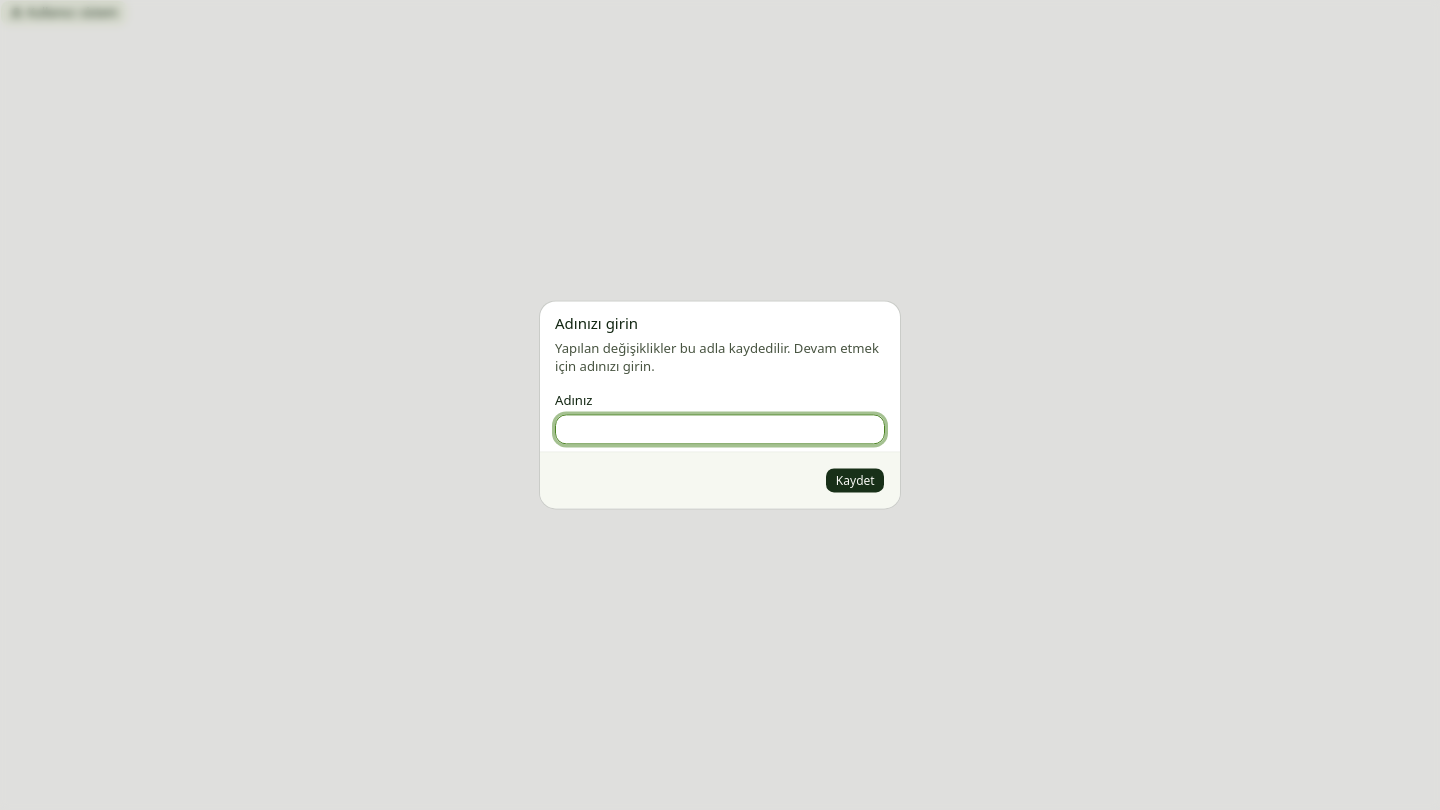
Test case: KullaniciAyari ilk açılış › kayıtlı ad yoksa diyalog açılır; ad girilene kadar kapanmaz
Expected: the dialog shows "Adınızı girin", [555, 313, 638, 333]
Press Escape
Expected: the dialog is shown, [540, 301, 900, 509]
Click the button "Kaydet".
click(855, 481)  # box [826, 467, 885, 494]
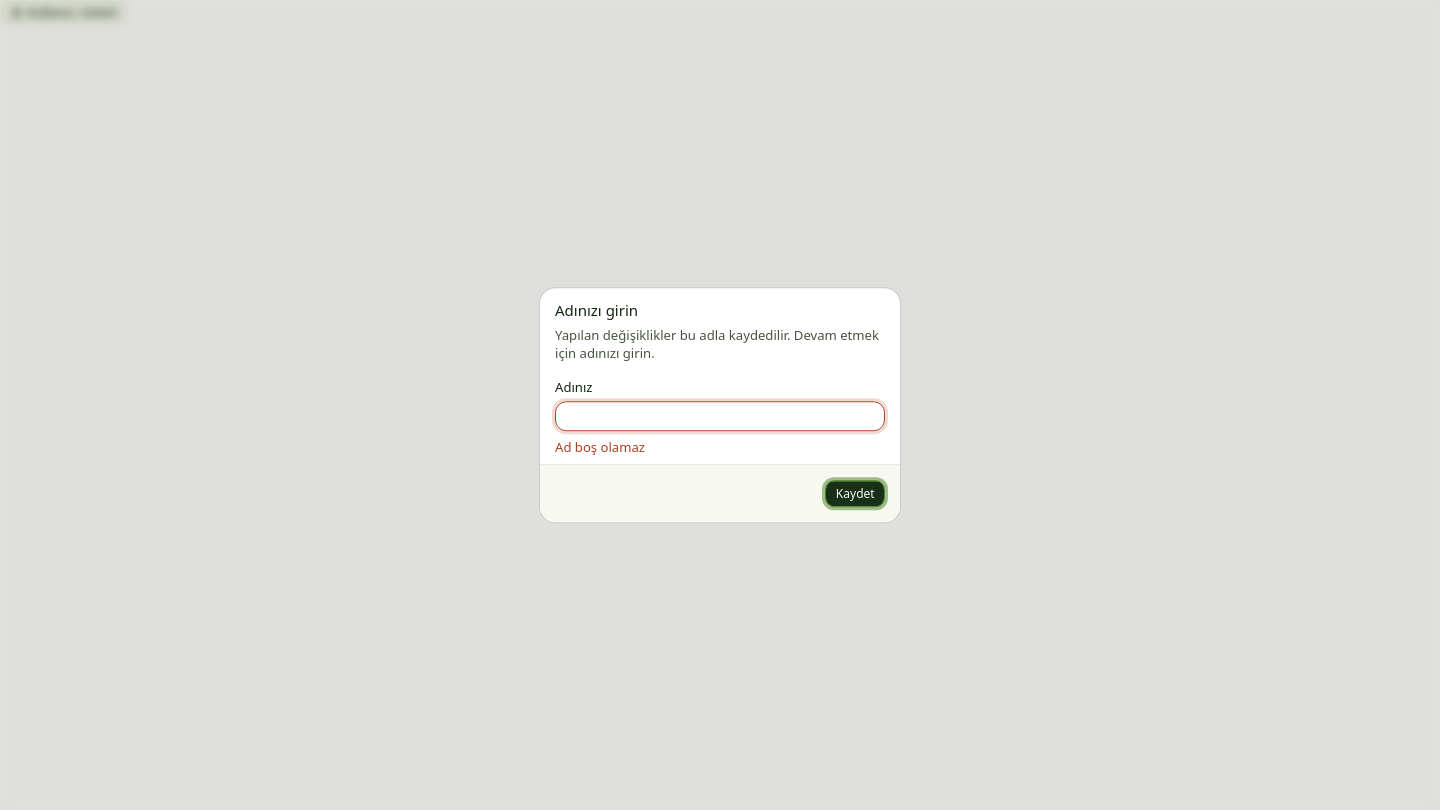
Expected: the dialog is shown, [540, 288, 900, 522]
Type "sistem" into the field labelled "Adınız".
click(720, 416); type("sistem")  # box [555, 401, 885, 431]
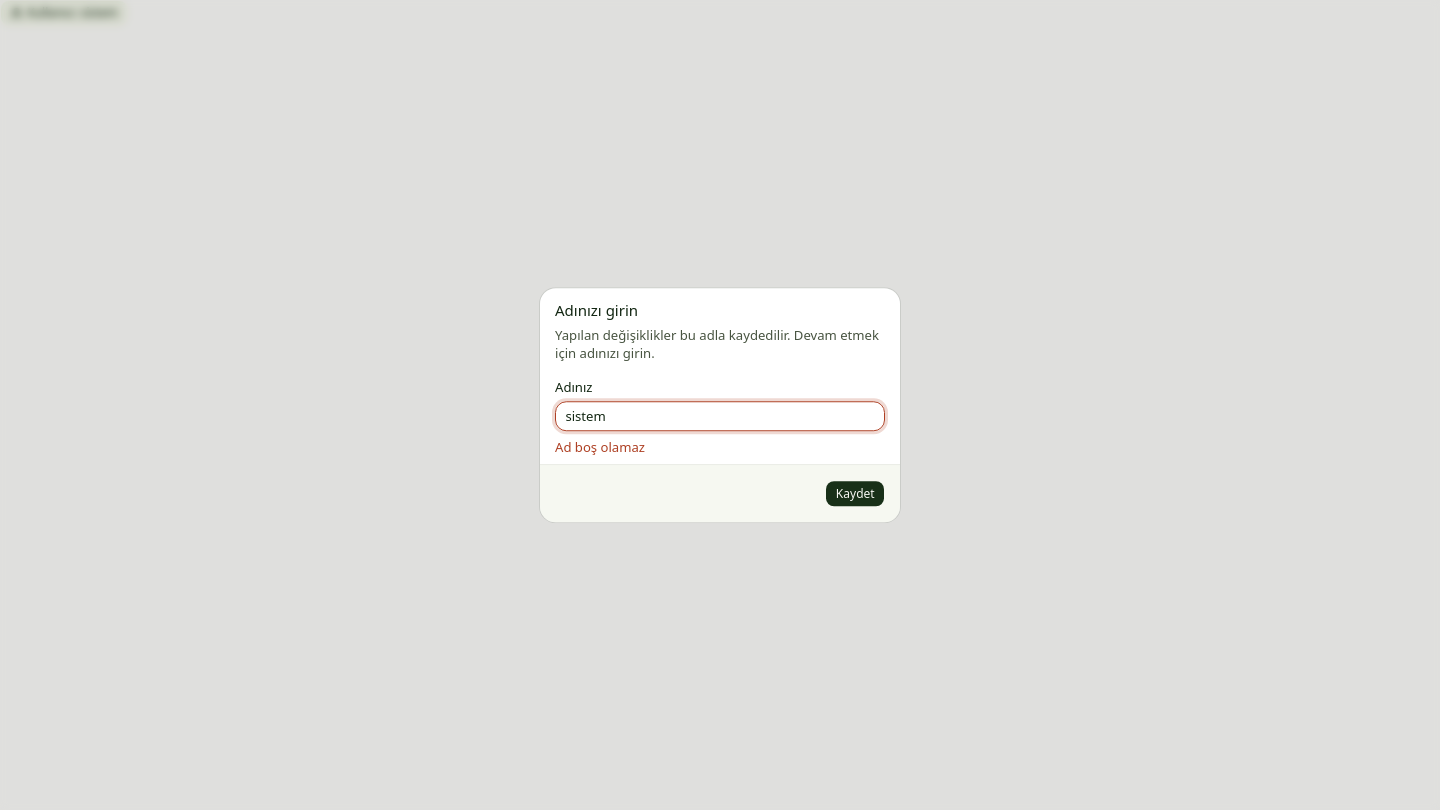
Click the button "Kaydet".
click(855, 494)  # box [826, 480, 885, 507]
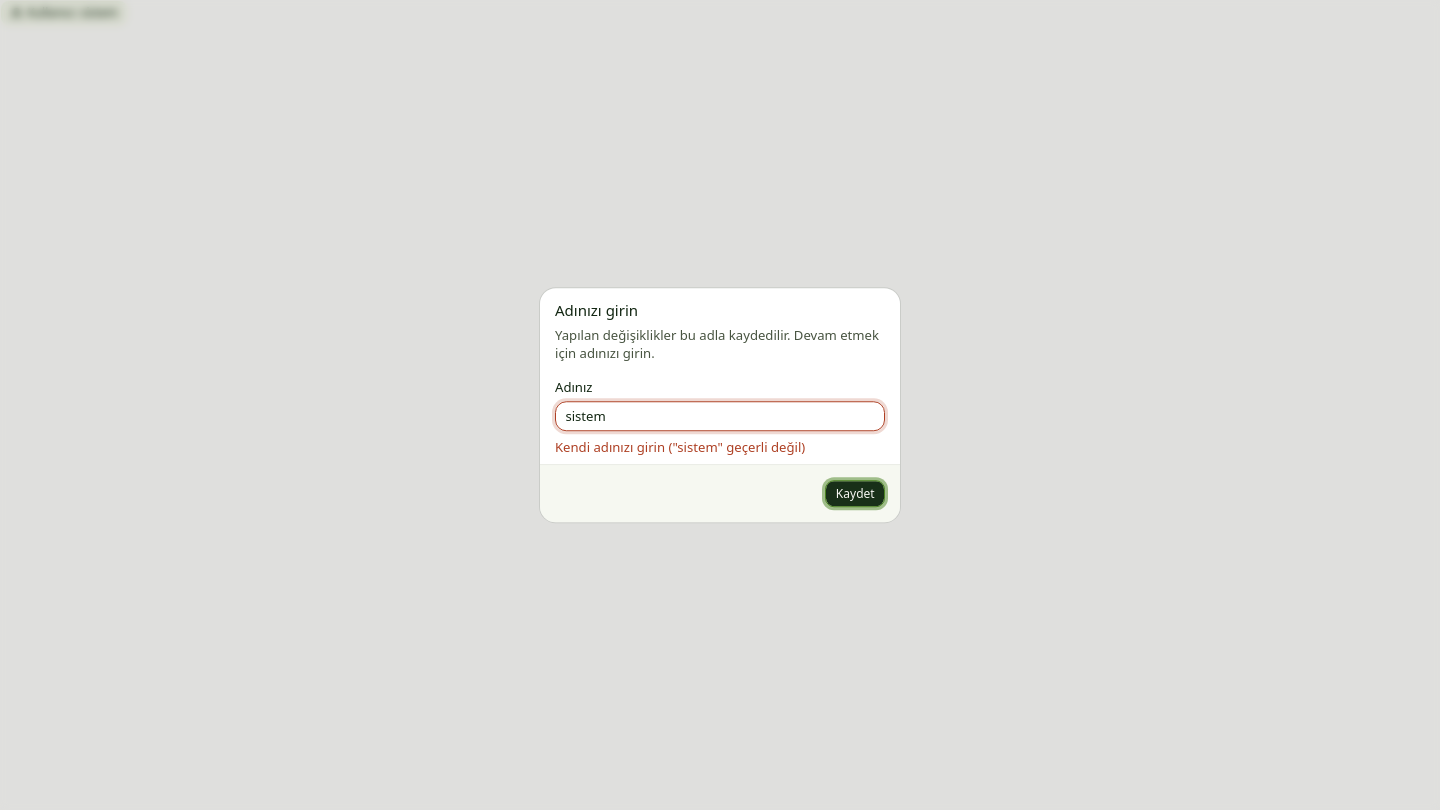
Expected: the dialog is shown, [540, 288, 900, 522]
Replace the text in the field labelled "Adınız" with "Ayşe" at (720, 416), box [555, 401, 885, 431]
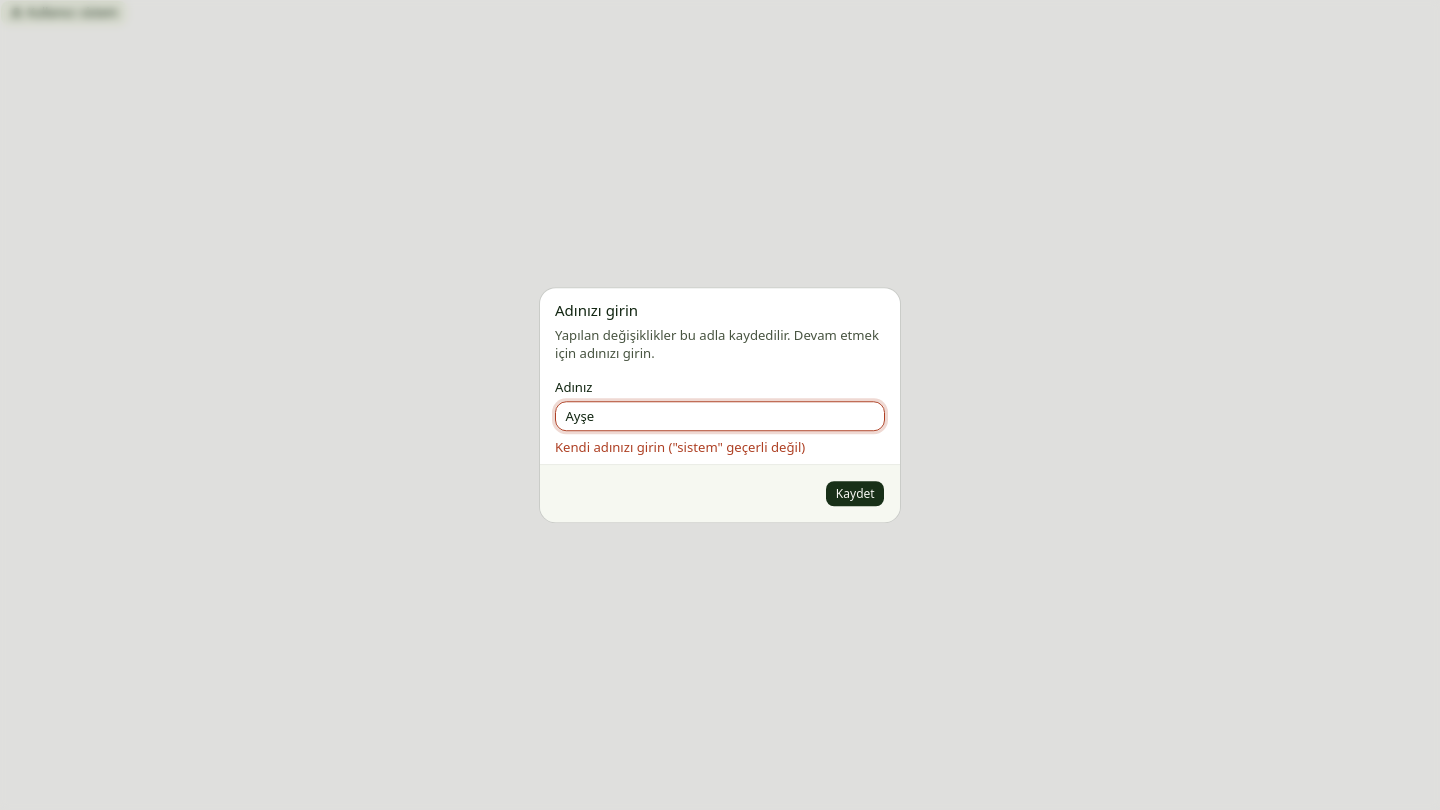
Click the button "Kaydet".
click(855, 494)  # box [826, 480, 885, 507]
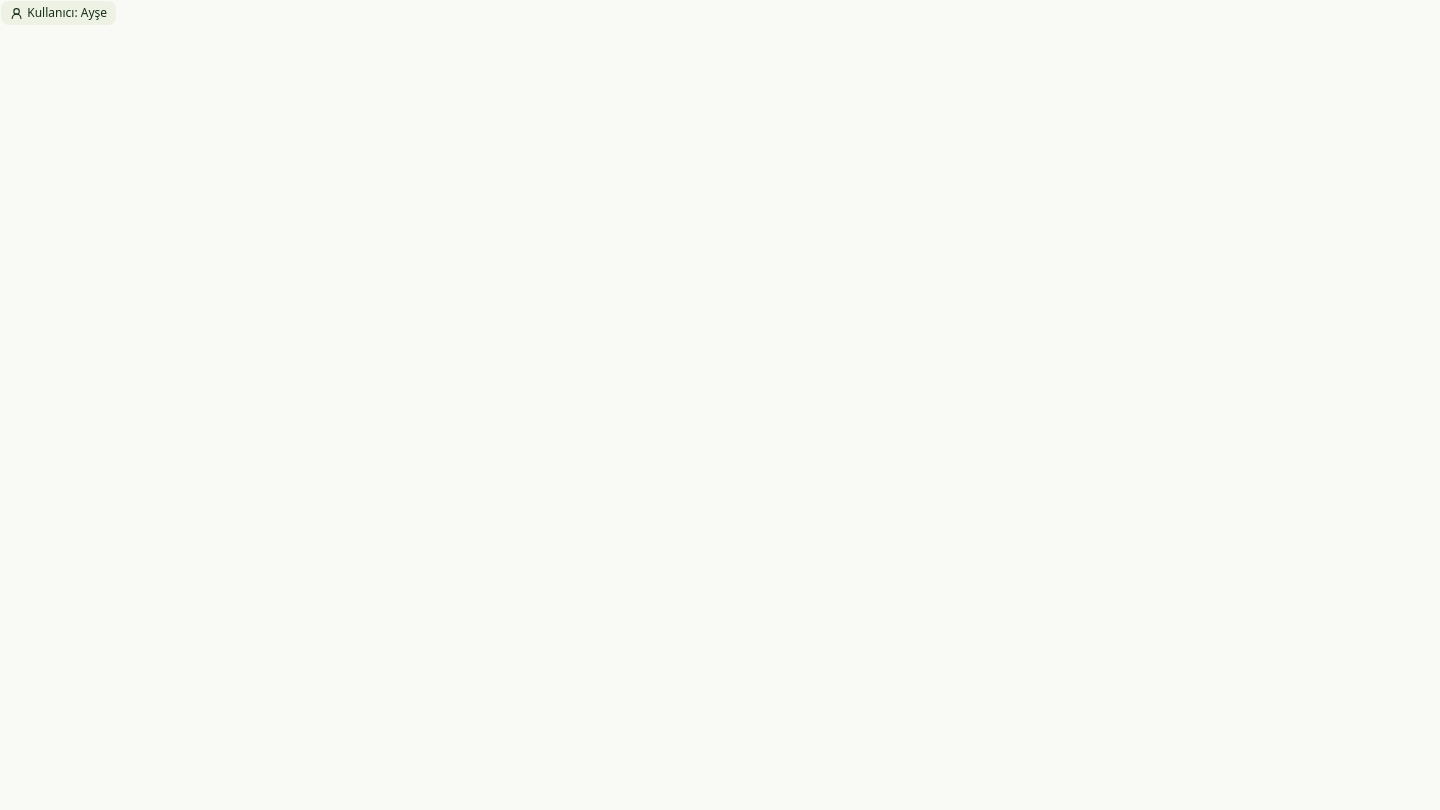
Expected: the dialog is gone
Expected: the button "Kullanıcı: Ayşe" is shown, [0, 0, 117, 26]
